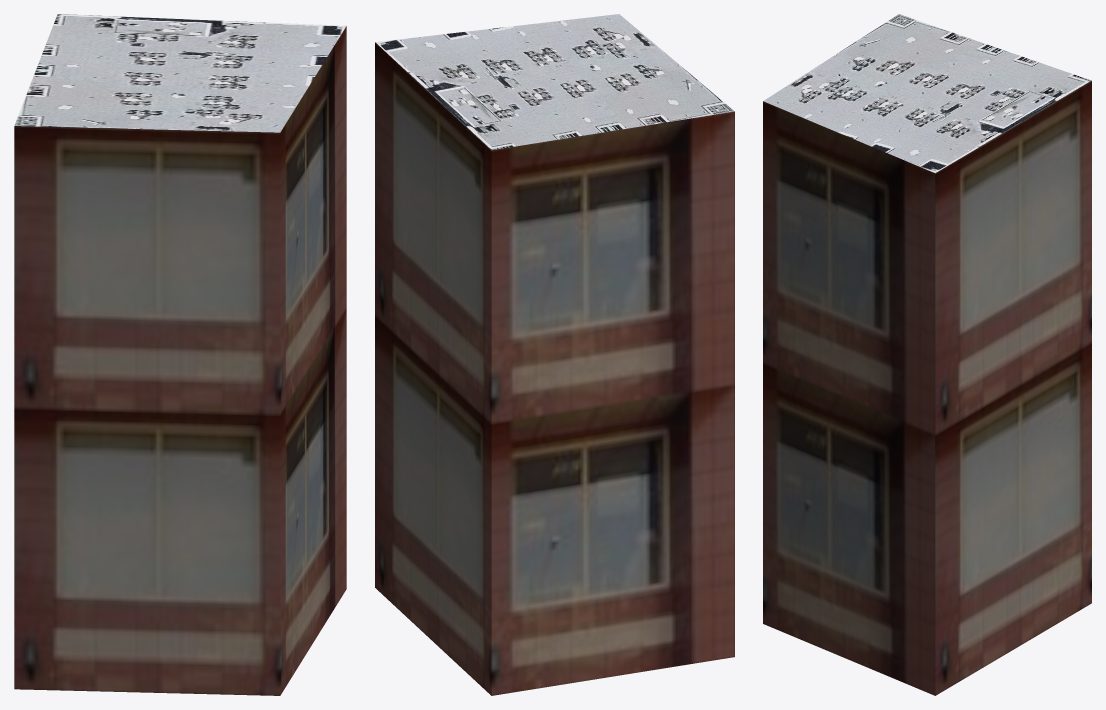
The model's file is ResTex__929.fbx.
The picture shows the model from 3 angles, left to right: view 1: azimuth 30°, elevation 25°; view 2: azimuth 150°, elevation 25°; view 3: azimuth 270°, elevation 25°; orthographic projection. The views are drawn at different scales.
Parts seen in each view (by area): view 1: CityEngineMaterial_13_m, CityEngineMaterial_4_m; view 2: CityEngineMaterial_13_m, CityEngineMaterial_4_m; view 3: CityEngineMaterial_13_m, CityEngineMaterial_4_m.
Boxes of the visible parts, x1,y1,x2,y2 form: CityEngineMaterial_13_m: (14,26,346,695); CityEngineMaterial_4_m: (14,14,346,132); CityEngineMaterial_13_m: (375,42,734,695); CityEngineMaterial_4_m: (375,14,734,150); CityEngineMaterial_13_m: (763,81,1091,695); CityEngineMaterial_4_m: (763,14,1091,173).
Size of the model in its own units: 3.92 by 6 by 3.42.
Materials: 2 (2 with a texture image).
